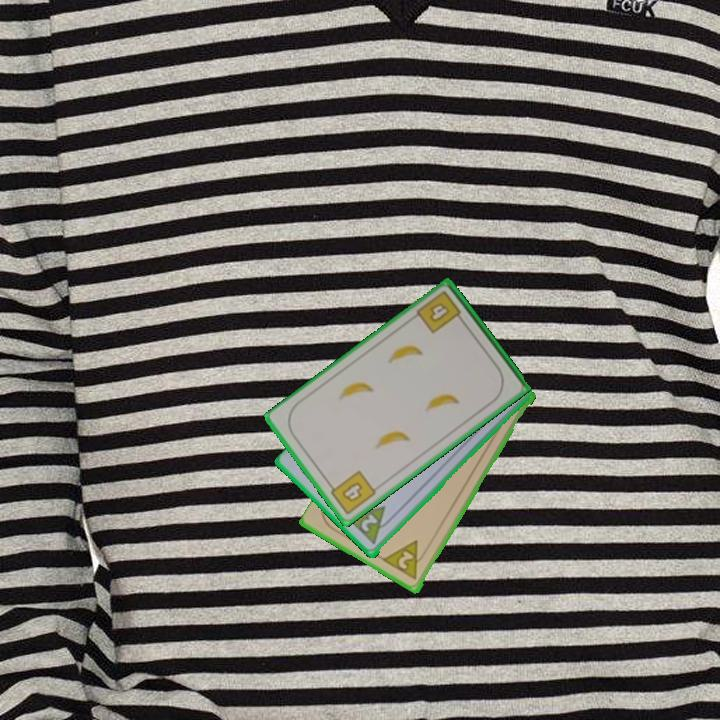2p: (380, 537, 430, 584), (357, 511, 381, 535)
4b: (324, 467, 379, 518), (413, 287, 467, 337)
